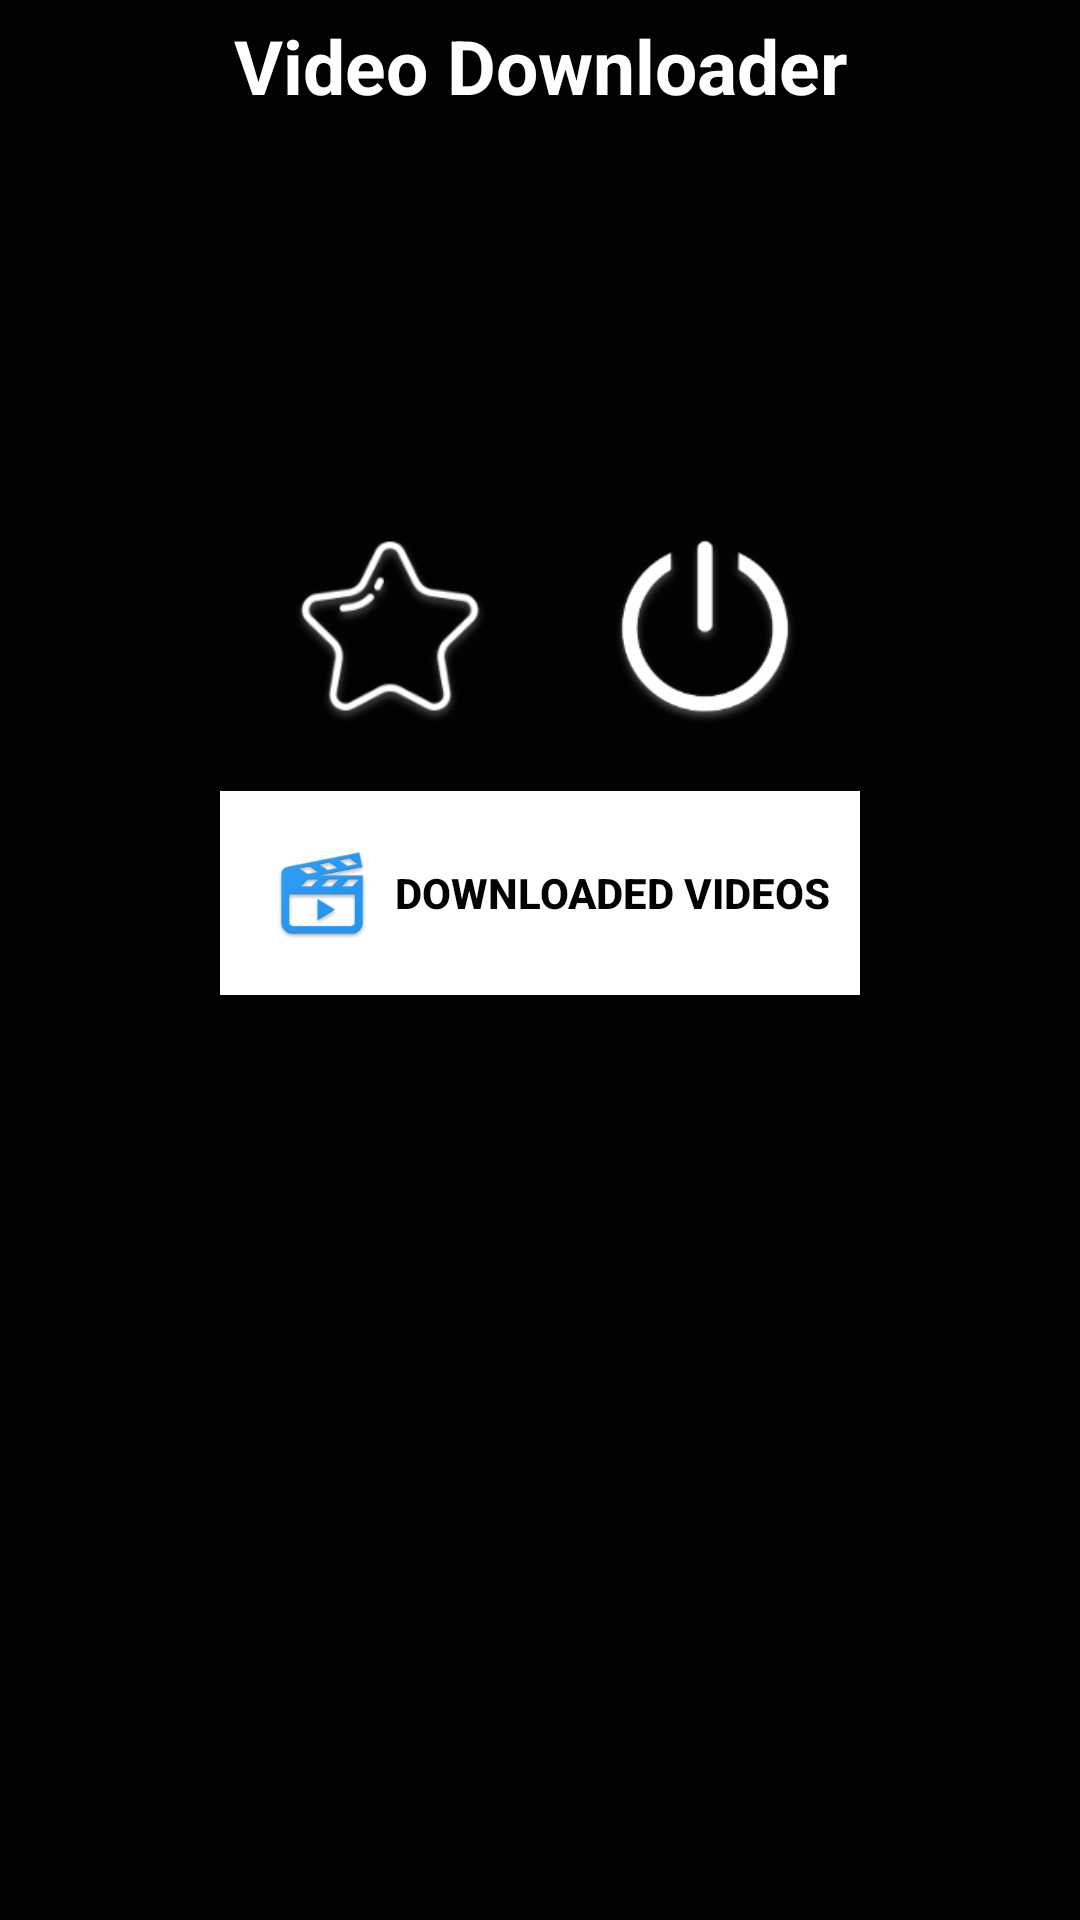

Icon click points for this 1080×1920 phone screenshot, format (x=x, y=y):
quit: (x=705, y=629)
rateus: (x=390, y=628)
